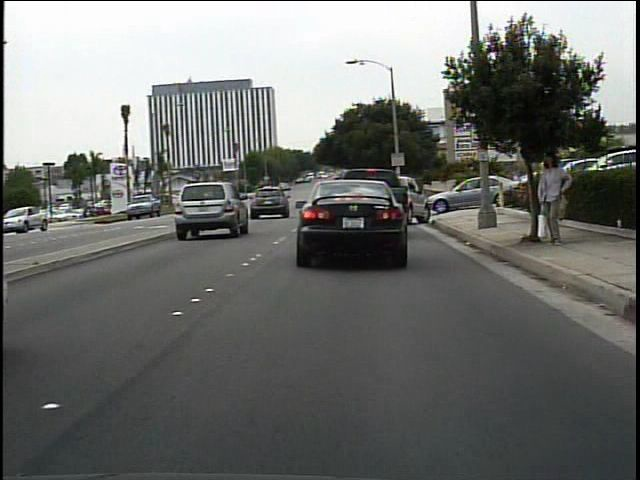person: (534, 146, 575, 249)
